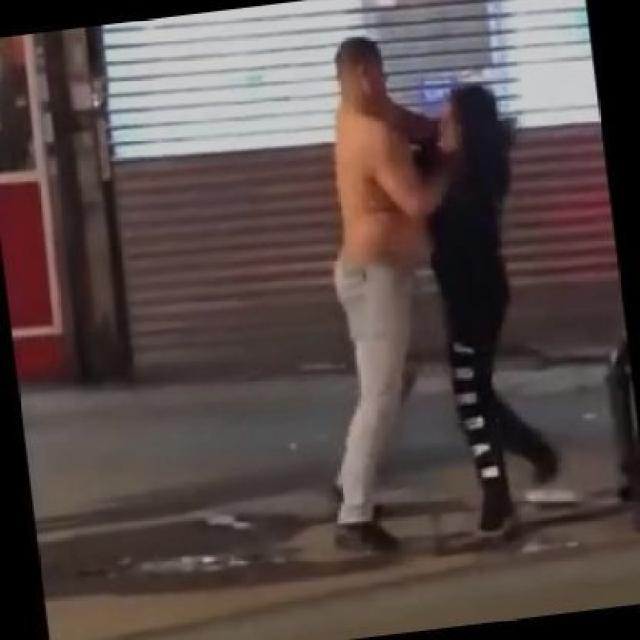fight: (308, 40, 568, 586)
